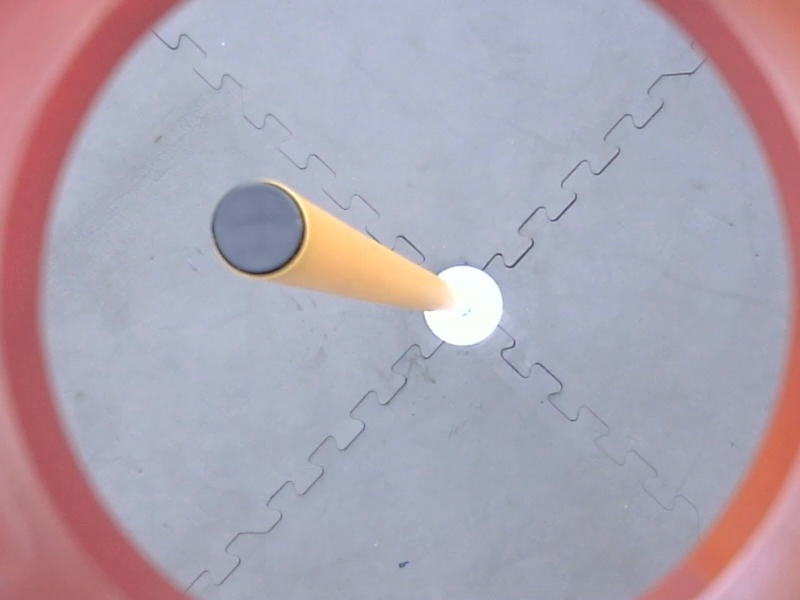tip: (205, 175, 314, 285)
